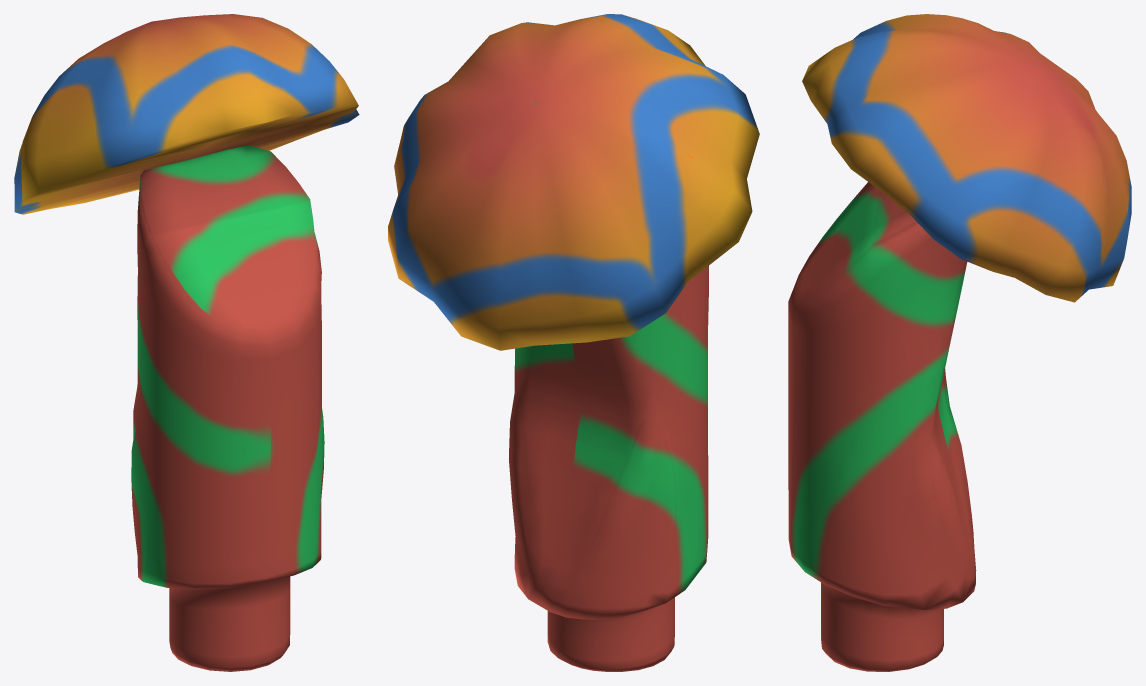
Rendered from POC-4.glb.
The picture shows the model from 3 angles, left to right: view 1: azimuth 30°, elevation 25°; view 2: azimuth 150°, elevation 25°; view 3: azimuth 270°, elevation 25°; orthographic projection. The views are drawn at different scales.
Visible parts, largest first — view 1: Body, Umbrella; view 2: Umbrella, Body; view 3: Body, Umbrella.
Part boxes in pixels (x1,y1,x2,y2): Body: (131, 145, 324, 671); Umbrella: (14, 14, 359, 214); Umbrella: (388, 14, 759, 350); Body: (509, 266, 708, 671); Body: (788, 182, 976, 671); Umbrella: (802, 14, 1131, 302).
Bounding box in the file's own units: 202 × 363 × 184.
1 material, 1 textured.
